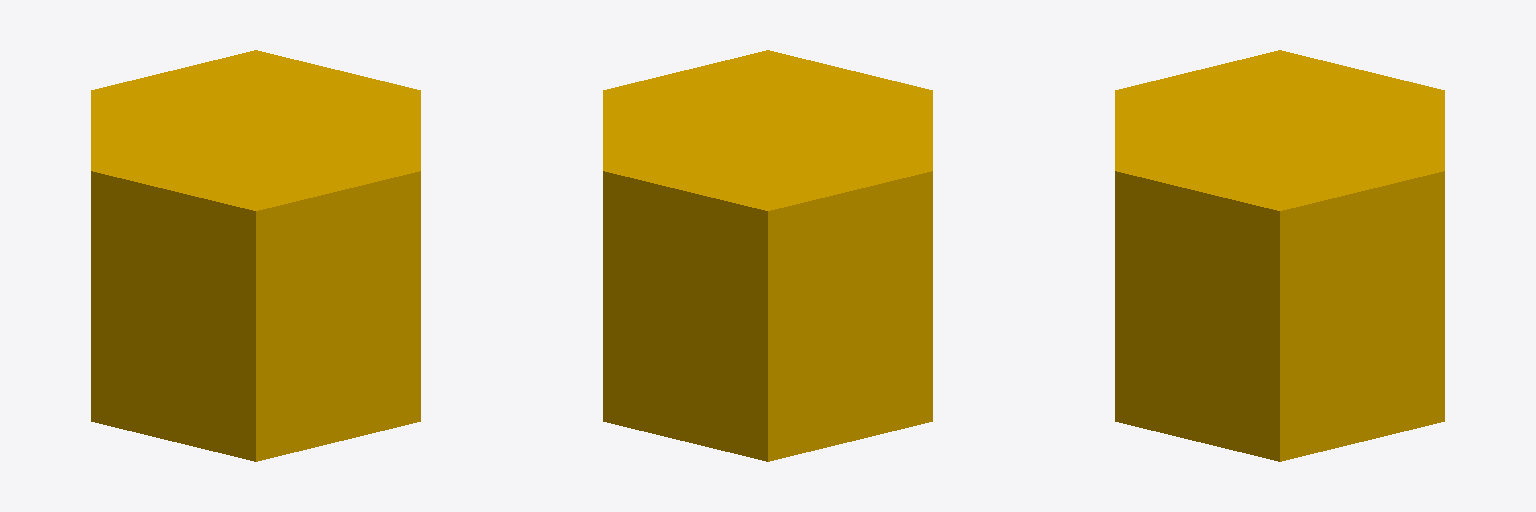
File: groundEarth.obj
3 views of the same model, side by side, from view 1: azimuth 30°, elevation 25°; view 2: azimuth 150°, elevation 25°; view 3: azimuth 270°, elevation 25° (orthographic).
Parts seen in each view (by area): view 1: groundEarth; view 2: groundEarth; view 3: groundEarth.
Boxes of the visible parts, x1=… form: groundEarth: x1=91, y1=50, x2=420, y2=461; groundEarth: x1=603, y1=50, x2=932, y2=461; groundEarth: x1=1115, y1=50, x2=1444, y2=461.
Size of the model in its own units: 1 by 0.725 by 0.866.